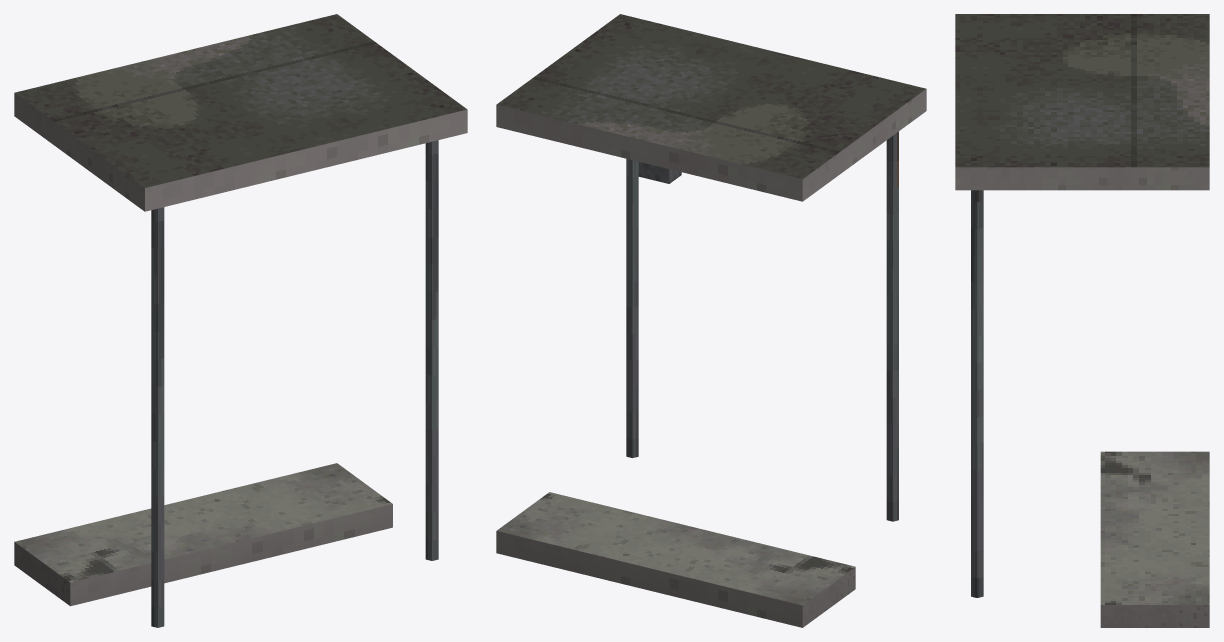
File: entrance_canopy.glb
The picture shows the model from 3 angles, left to right: view 1: azimuth 30°, elevation 25°; view 2: azimuth 150°, elevation 25°; view 3: azimuth 270°, elevation 25°; orthographic projection. The views are drawn at different scales.
Parts seen in each view (by area): view 1: entrance_canopy; view 2: entrance_canopy; view 3: entrance_canopy.
Boxes of the visible parts, bbox=[...] form: entrance_canopy: bbox=[14, 14, 467, 627]; entrance_canopy: bbox=[496, 14, 926, 627]; entrance_canopy: bbox=[955, 14, 1209, 627].
Size of the model in its own units: 2 by 2.8 by 1.4.
Materials: 2 (2 with a texture image).
